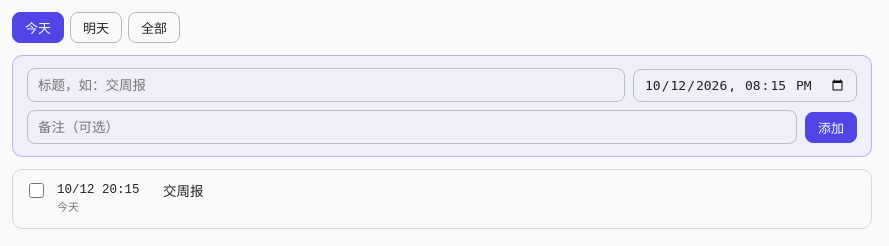
it: CalendarPanel › 勾选 → complete(id, true)，列表随之刷新
This screenshot has width=889, height=246.
Click the checkbox titled "标记完成" at x=36, y=190, box [29, 183, 44, 198]
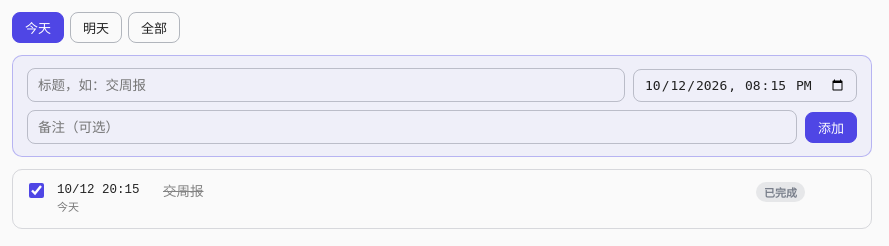
Expected: the text "已完成" is shown, [756, 182, 805, 202]
